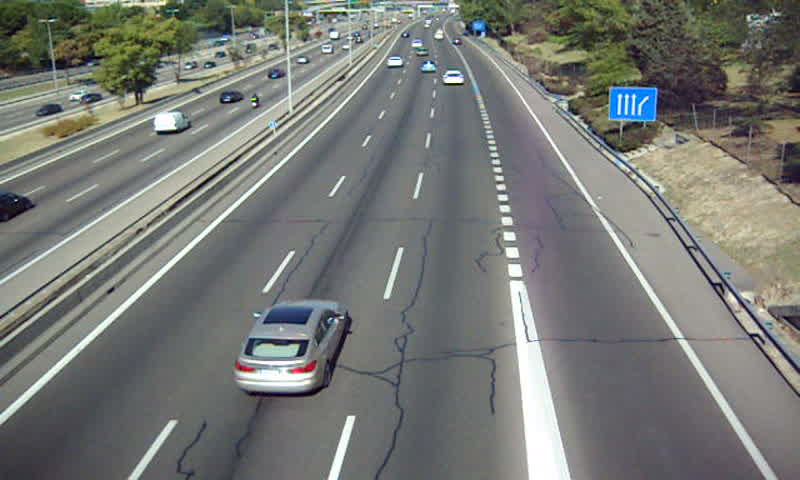car: (236, 301, 350, 390), (442, 69, 466, 86), (420, 58, 436, 73), (386, 56, 405, 68)
